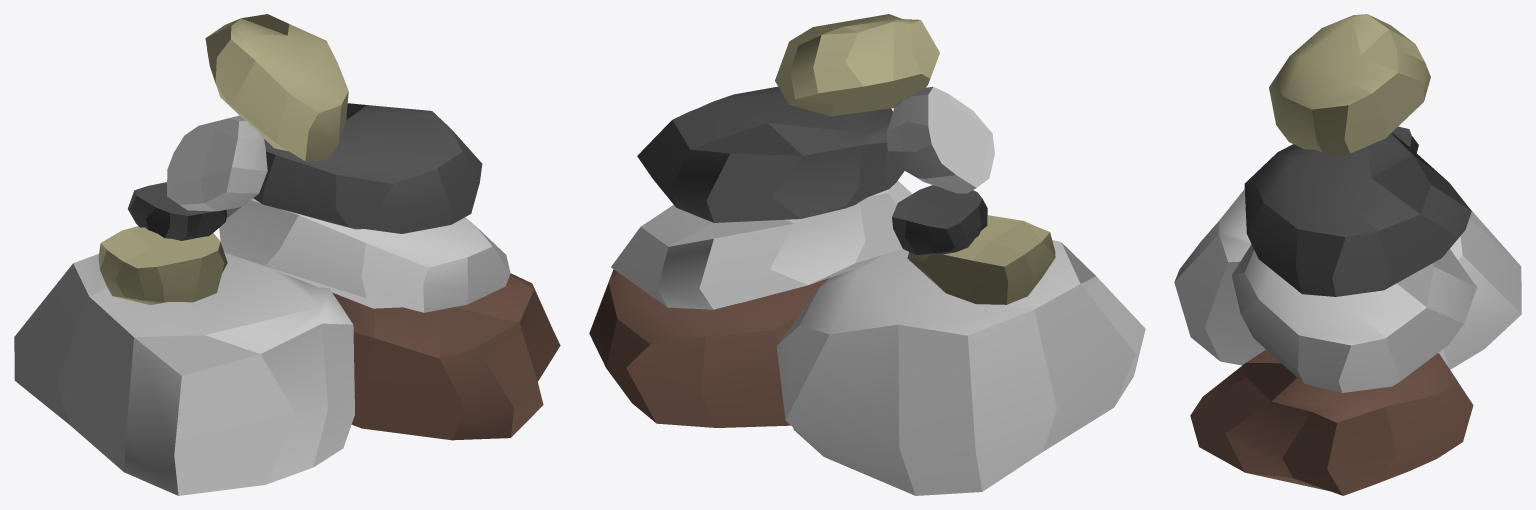
Rendered from 001_PebblePile_001.fbx.
3 renders of one model, left to right at view 1: azimuth 30°, elevation 25°; view 2: azimuth 150°, elevation 25°; view 3: azimuth 270°, elevation 25°, orthographic. The views are drawn at different scales.
Parts seen in each view (by area): view 1: LargeRock_09; view 2: LargeRock_09; view 3: LargeRock_09.
Part boxes in pixels (x1=…): LargeRock_09: x1=14, y1=14, x2=560, y2=495; LargeRock_09: x1=589, y1=14, x2=1145, y2=495; LargeRock_09: x1=1174, y1=14, x2=1521, y2=495.
Bounding box in the file's own units: 79.58 × 67.19 × 56.75.
